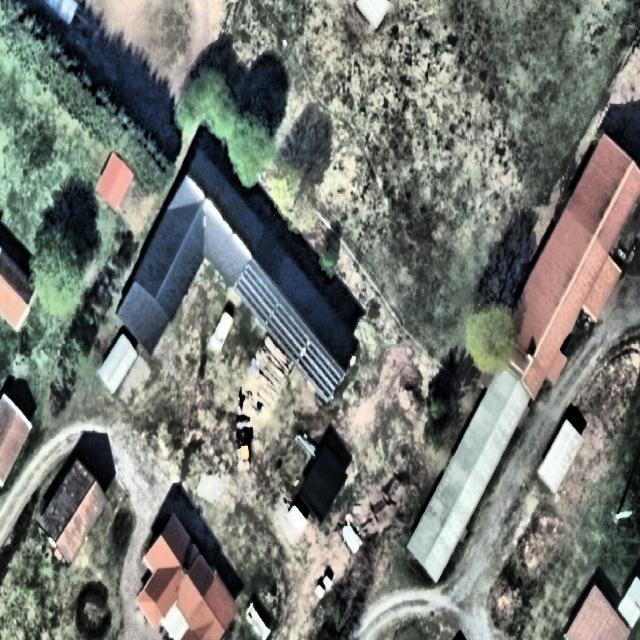roof_pv: (234, 267, 278, 326), (302, 339, 340, 406), (270, 304, 305, 364)
